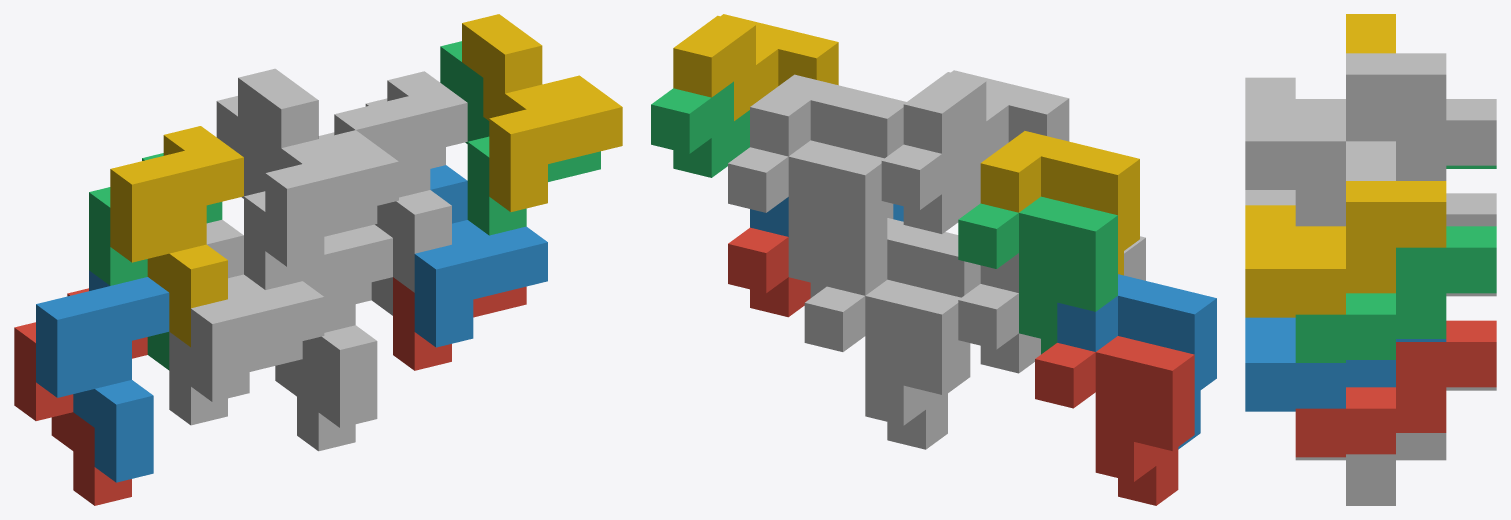
Rendered from tiling.obj.
3 views of the same model, side by side, from view 1: azimuth 30°, elevation 25°; view 2: azimuth 150°, elevation 25°; view 3: azimuth 270°, elevation 25° (orthographic). The views are drawn at different scales.
Visible parts, largest first — view 1: copy_1_domain_2, copy_2_domain_4, copy_2_domain_8, copy_1_domain_4, copy_1_domain_8, copy_2_domain_6, copy_2_domain_2, copy_1_domain_6, copy_1_domain_1, copy_2_domain_7, copy_2_domain_3, copy_1_domain_3 (+4 smaller); view 2: copy_1_domain_1, copy_1_domain_5, copy_1_domain_3, copy_1_domain_7, copy_1_domain_4, copy_2_domain_4, copy_2_domain_8, copy_1_domain_2, copy_1_domain_8, copy_1_domain_6, copy_2_domain_3, copy_2_domain_7 (+4 smaller); view 3: copy_2_domain_8, copy_2_domain_4, copy_2_domain_5, copy_2_domain_7, copy_2_domain_6, copy_2_domain_3, copy_1_domain_5, copy_1_domain_4, copy_1_domain_8, copy_2_domain_1, copy_2_domain_2.
Boxes of the visible parts, x1=… form: copy_1_domain_2: x1=36, y1=270, x2=169, y2=482; copy_2_domain_4: x1=238, y1=68, x2=398, y2=266; copy_2_domain_8: x1=462, y1=14, x2=622, y2=211; copy_1_domain_4: x1=110, y1=126, x2=243, y2=347; copy_1_domain_8: x1=334, y1=71, x2=467, y2=292; copy_2_domain_6: x1=414, y1=165, x2=547, y2=347; copy_2_domain_2: x1=191, y1=219, x2=324, y2=401; copy_1_domain_6: x1=300, y1=224, x2=392, y2=427; copy_1_domain_1: x1=14, y1=288, x2=147, y2=505; copy_2_domain_7: x1=440, y1=41, x2=600, y2=235; copy_2_domain_3: x1=216, y1=96, x2=377, y2=289; copy_1_domain_3: x1=89, y1=153, x2=222, y2=370; copy_1_domain_1: x1=1035, y1=336, x2=1194, y2=505; copy_1_domain_5: x1=804, y1=279, x2=964, y2=449; copy_1_domain_3: x1=958, y1=196, x2=1117, y2=354; copy_1_domain_7: x1=728, y1=140, x2=887, y2=297; copy_1_domain_4: x1=980, y1=131, x2=1139, y2=275; copy_2_domain_4: x1=903, y1=70, x2=1069, y2=177; copy_2_domain_8: x1=673, y1=14, x2=838, y2=120; copy_1_domain_2: x1=1057, y1=274, x2=1216, y2=449; copy_1_domain_8: x1=750, y1=74, x2=906, y2=218; copy_1_domain_6: x1=827, y1=218, x2=980, y2=392; copy_2_domain_3: x1=881, y1=138, x2=980, y2=233; copy_2_domain_7: x1=651, y1=81, x2=749, y2=177; copy_2_domain_8: x1=1245, y1=181, x2=1446, y2=317; copy_2_domain_4: x1=1245, y1=53, x2=1446, y2=189; copy_2_domain_5: x1=1295, y1=320, x2=1496, y2=457; copy_2_domain_7: x1=1295, y1=226, x2=1496, y2=362; copy_2_domain_6: x1=1245, y1=317, x2=1446, y2=411; copy_2_domain_3: x1=1295, y1=99, x2=1496, y2=226; copy_1_domain_5: x1=1346, y1=387, x2=1496, y2=505; copy_1_domain_4: x1=1346, y1=14, x2=1395, y2=53; copy_1_domain_8: x1=1346, y1=141, x2=1395, y2=180; copy_2_domain_1: x1=1446, y1=193, x2=1496, y2=226; copy_2_domain_2: x1=1245, y1=190, x2=1295, y2=205.
Bounding box in the file's own units: 14 × 9 × 5.
